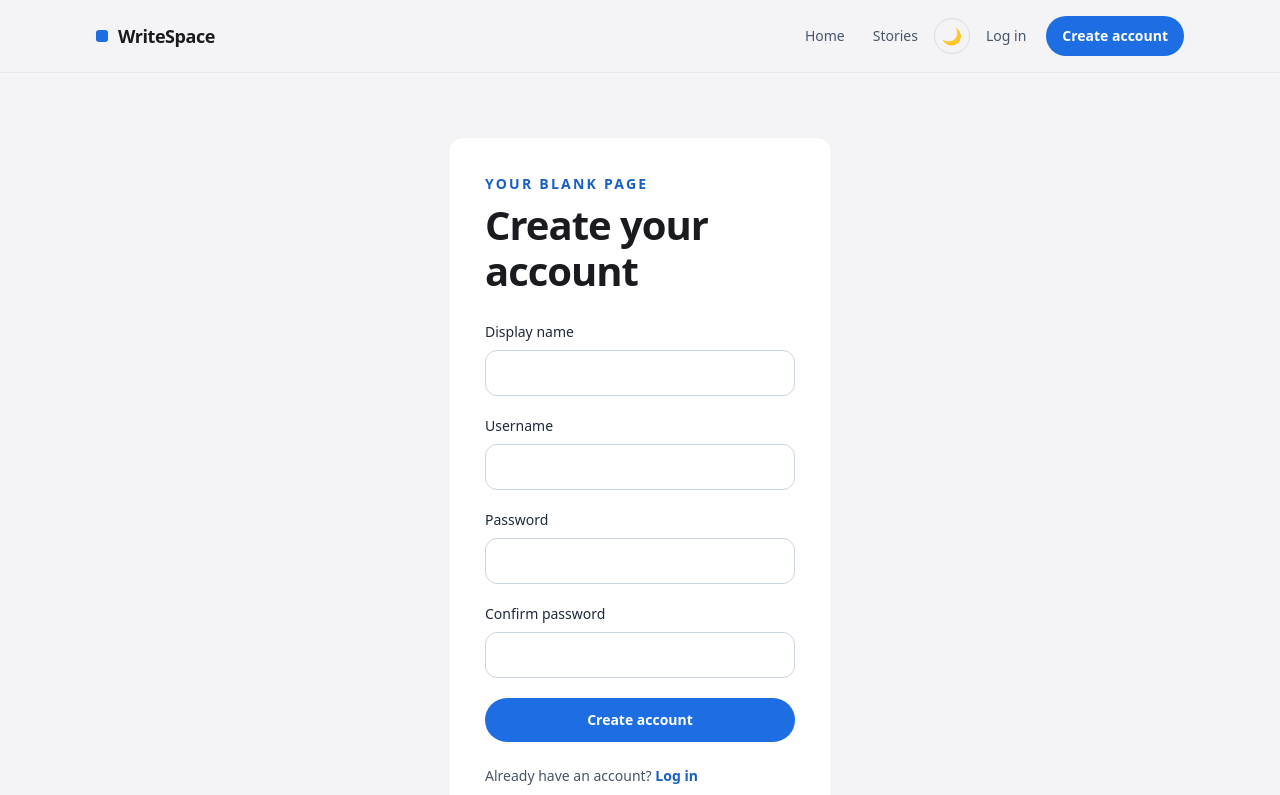
Test: access pages › blocks normalized duplicate usernames including the virtual admin
Type "Administrator" into the field labelled "Display name".
click(640, 373); type("Administrator")  # box [485,350,795,396]
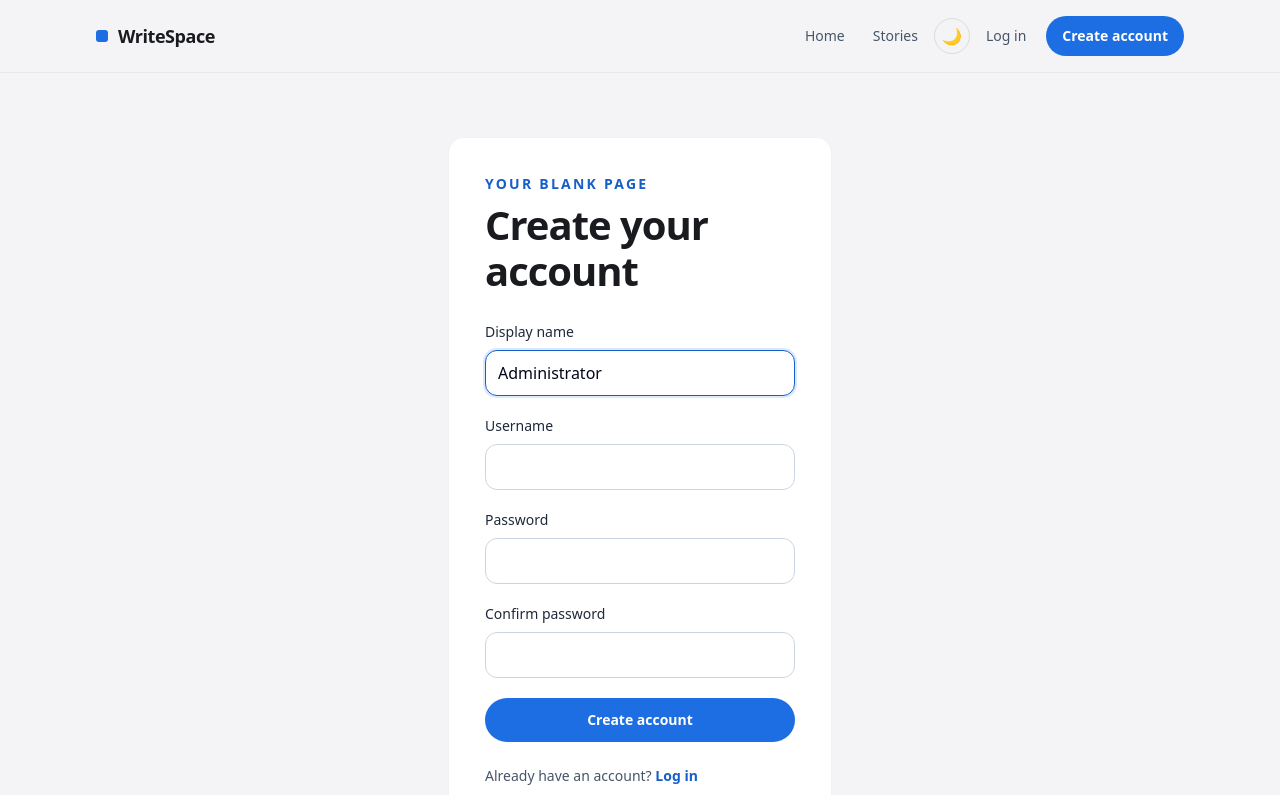
Type " ADMIN " into the field labelled "Username".
click(640, 467); type(" ADMIN ")  # box [485,444,795,490]
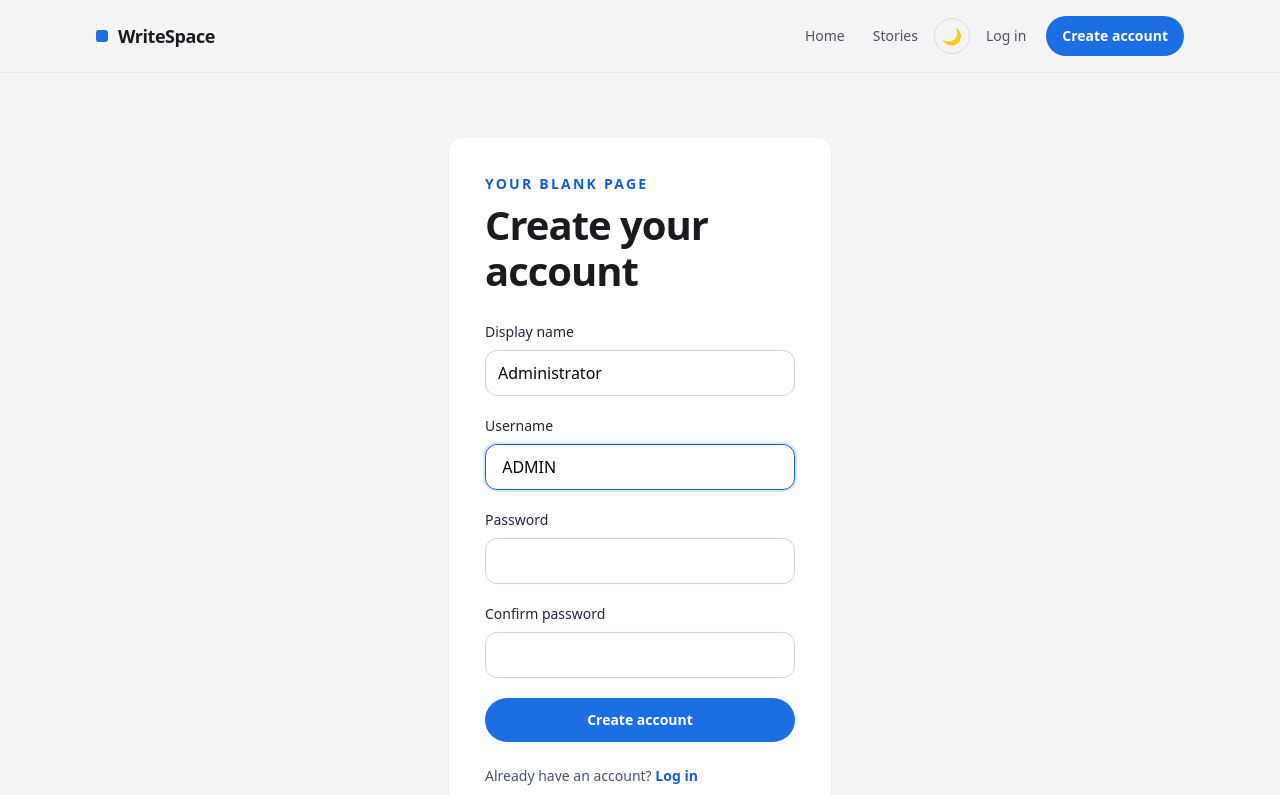
Type "secret" into the password field labelled "Password".
click(640, 561); type("secret")  # box [485,538,795,584]
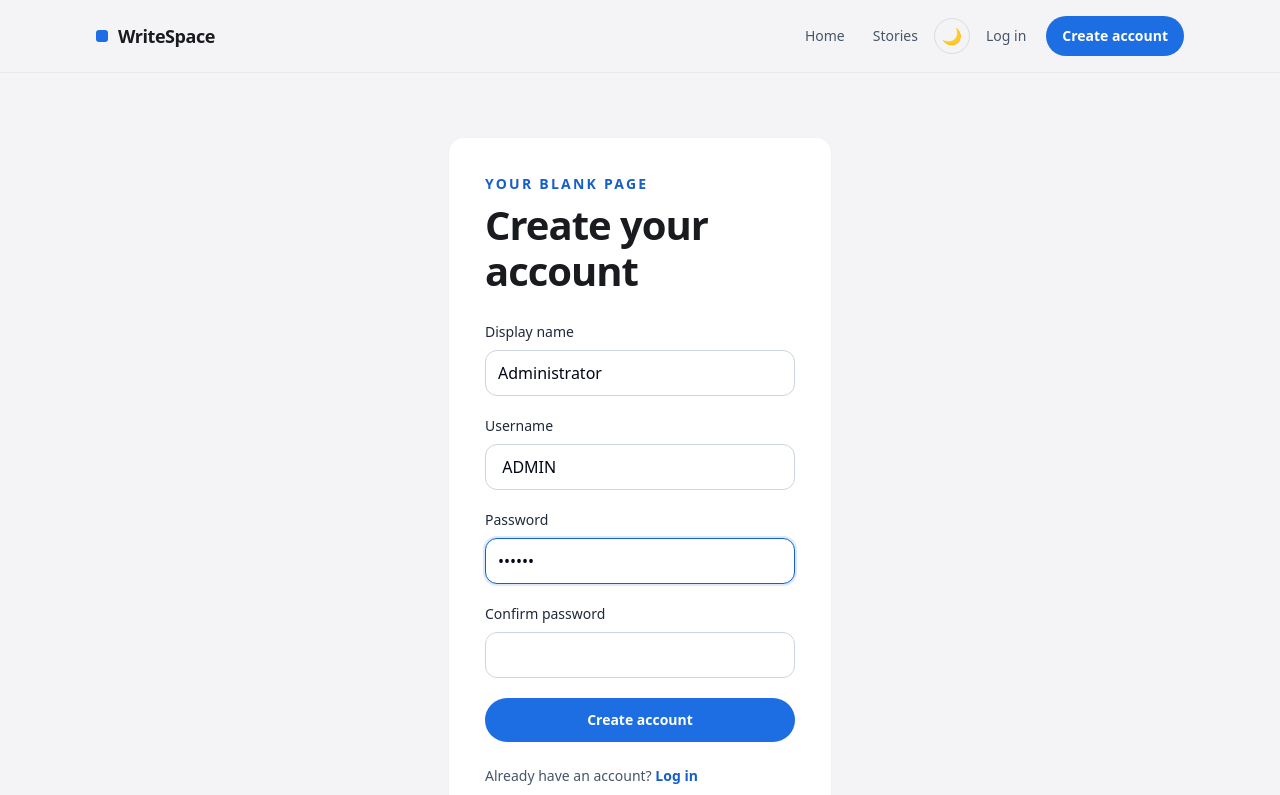
Type "secret" into the password field labelled "Confirm password".
click(640, 655); type("secret")  # box [485,632,795,678]
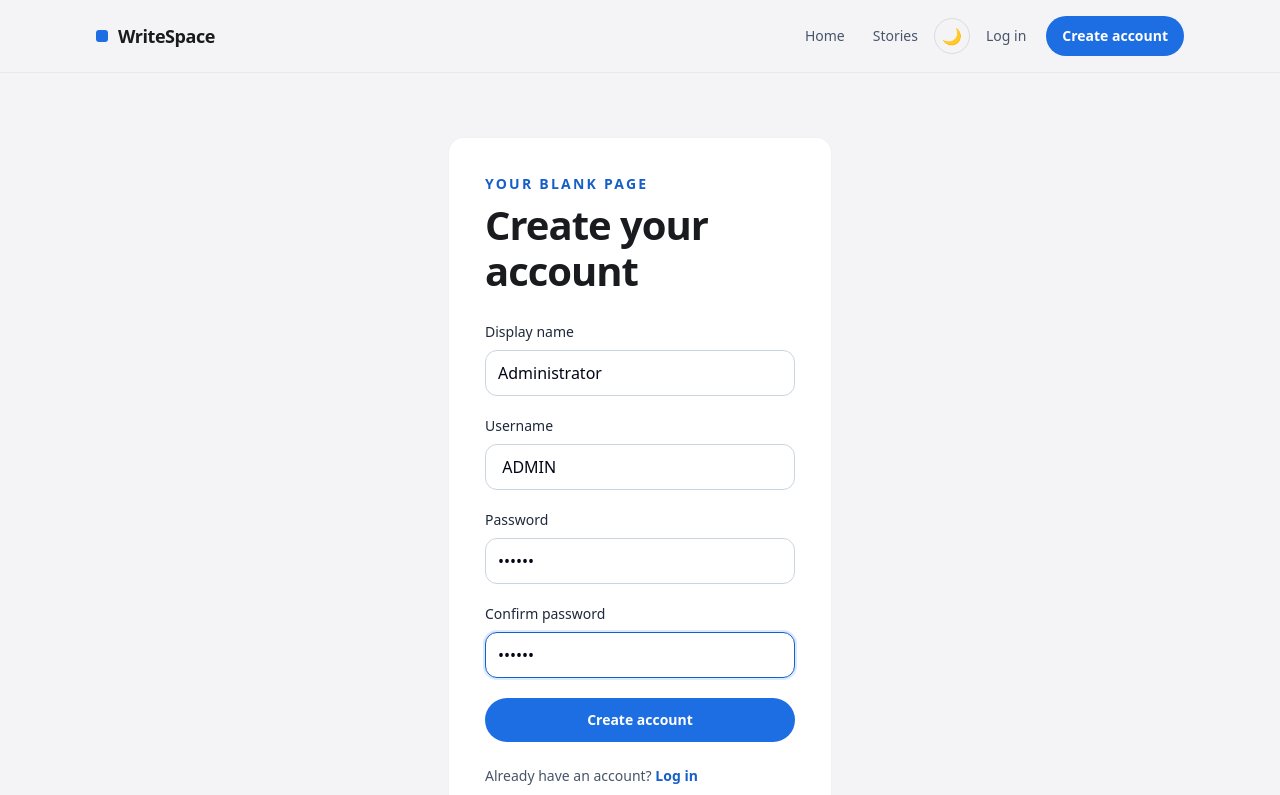
Click the button "Create account".
click(640, 720)  # box [485,698,795,742]
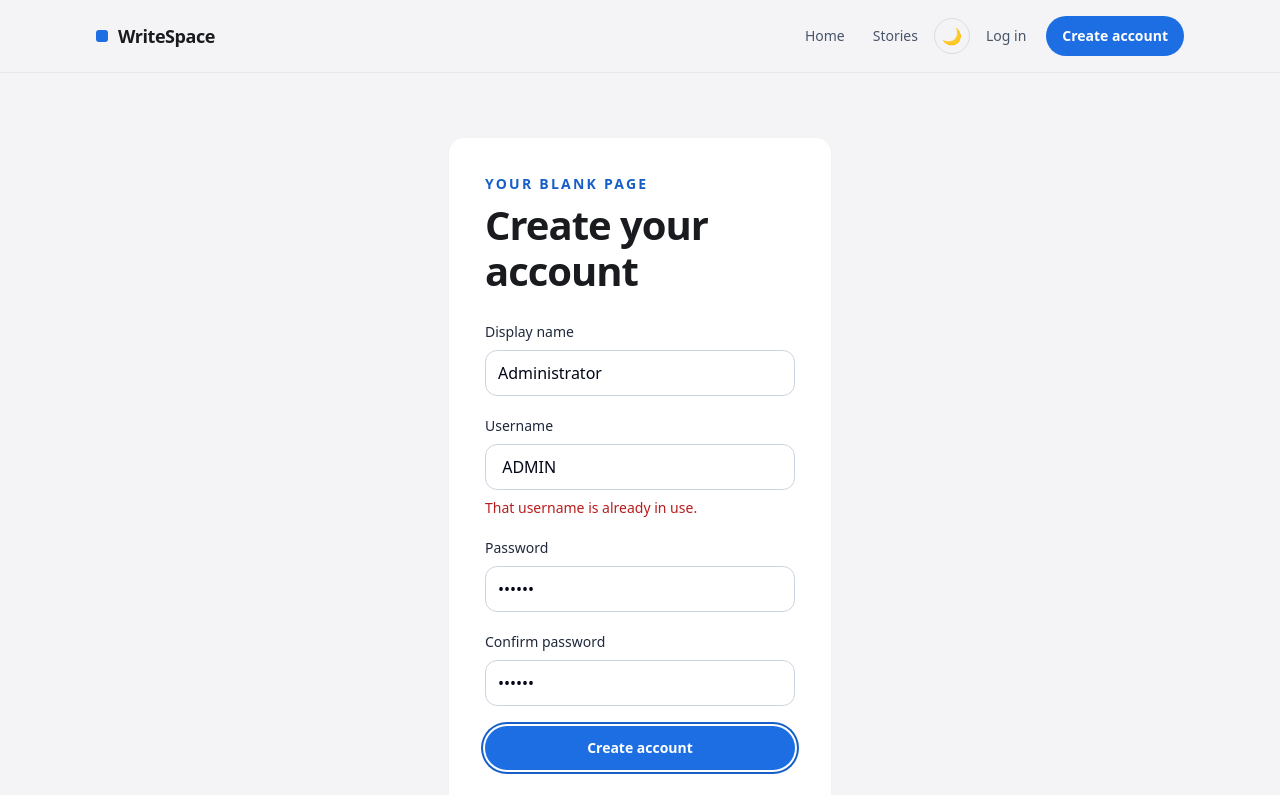
Result: the text "That username is already in use." is shown at [485,498,697,517]
